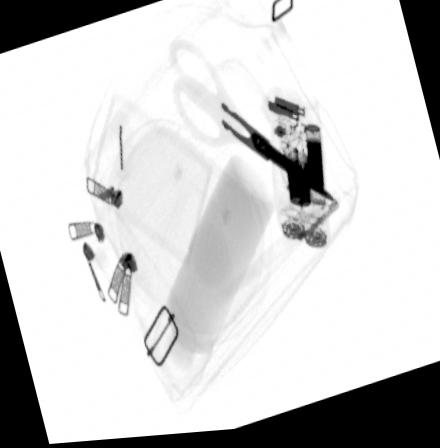Scissors: (169, 38, 337, 205)
